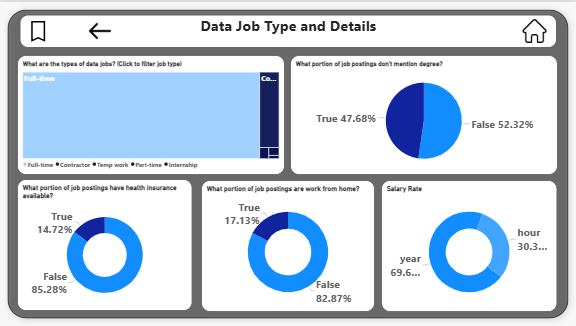

This screenshot's page, from the dashboard's own definition file:
{"tool":"powerbi","page":{"name":"Job Types and Details","canvas":[1920,1080],"ordinal":2},"visuals":[{"type":"shape","box":[0,0,1920,1080],"z":0},{"type":"donutChart","title":"What portion of job postings are work from home?","fields":{"Y":["CountNonNull(job_postings_flat.job_work_from_home)"],"Category":["job_postings_flat.job_work_from_home"]},"box":[670,592.5,580,440],"z":1000},{"type":"pieChart","title":"What portion of job postings don''t mention degree?","fields":{"Category":["job_postings_flat.job_no_degree_mention"],"Y":["CountNonNull(job_postings_flat.job_no_degree_mention)"]},"box":[965,175,892.5,400],"z":2000},{"type":"treemap","title":"What are the types of data jobs? (Click to filter job type)","fields":{"Group":["job_postings_flat.job_schedule_type"],"Values":["CountNonNull(job_postings_flat.job_title_short)"]},"box":[57.5,175,892.5,400],"z":3000},{"type":"donutChart","title":"What portion of job postings have health insurance available?","fields":{"Category":["job_postings_flat.job_health_insurance"],"Y":["CountNonNull(job_postings_flat.job_health_insurance)"]},"box":[57.5,590,585,440],"z":4000},{"type":"textbox","box":[62.5,40,1795,115],"z":5000},{"type":"donutChart","title":"Salary Rate","fields":{"Y":["CountNonNull(job_postings_flat.salary_rate)"],"Category":["job_postings_flat.salary_rate"]},"box":[1270,592.5,587.5,440],"z":6000},{"type":"image","box":[162.5,55,160,80],"z":7000},{"type":"image","box":[1725,55,110,80],"z":8000},{"type":"actionButton","box":[17.5,7.5,255,175],"z":10001}]}

Visuals, with their boxes in screenshot pixels (x1, y1, x2, y2), scaled from the page's 1920x1080 canvas onto the 576x326 screenshot:
shape: bbox(0, 0, 575, 325)
"What portion of job postings are work from home?" donutChart: bbox(201, 179, 375, 312)
"What portion of job postings don''t mention degree?" pieChart: bbox(290, 53, 557, 174)
"What are the types of data jobs? (Click to filter job type)" treemap: bbox(17, 53, 285, 174)
"What portion of job postings have health insurance available?" donutChart: bbox(17, 178, 193, 311)
textbox: bbox(19, 12, 557, 47)
"Salary Rate" donutChart: bbox(381, 179, 557, 312)
image: bbox(49, 17, 97, 41)
image: bbox(518, 17, 550, 41)
actionButton: bbox(5, 2, 82, 55)
